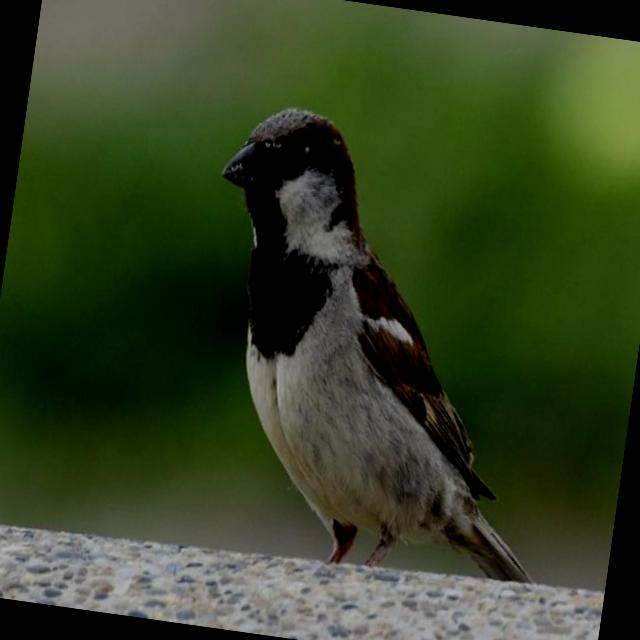bird: (170, 95, 600, 588)
